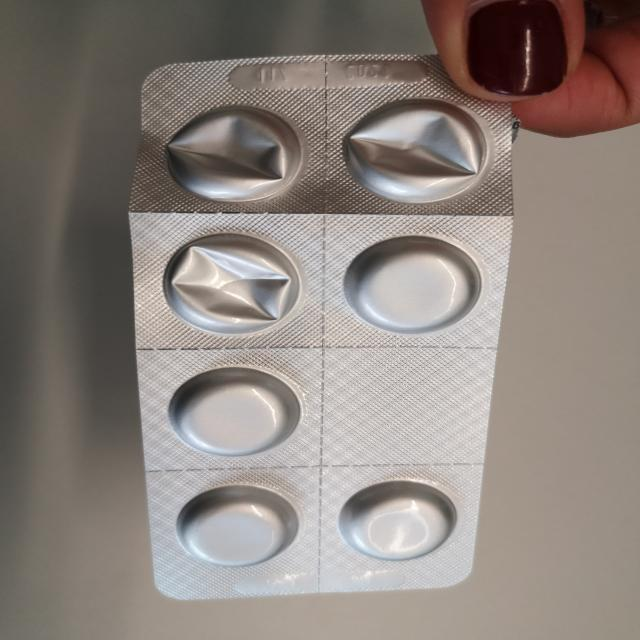Empty: (336, 94, 494, 207), (156, 226, 305, 340), (158, 98, 308, 206)
Pill: (337, 229, 489, 338), (161, 364, 305, 461), (172, 479, 304, 568), (333, 476, 463, 564)
